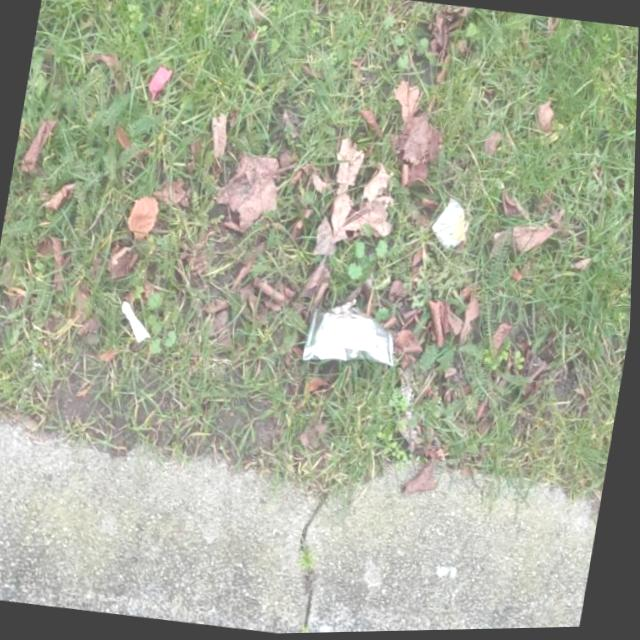Plastic: (303, 292, 408, 376), (429, 195, 475, 256)
